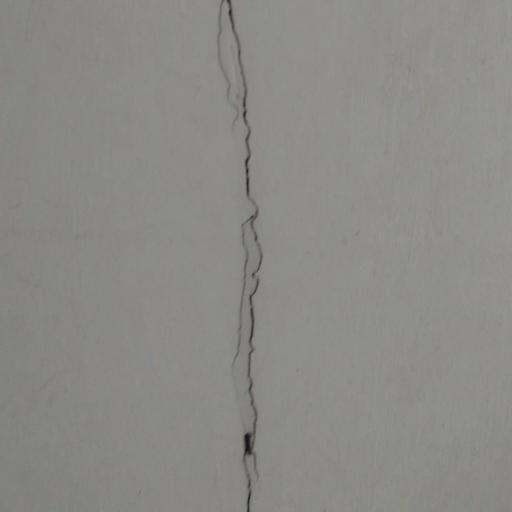major_crack: (186, 0, 279, 512)
